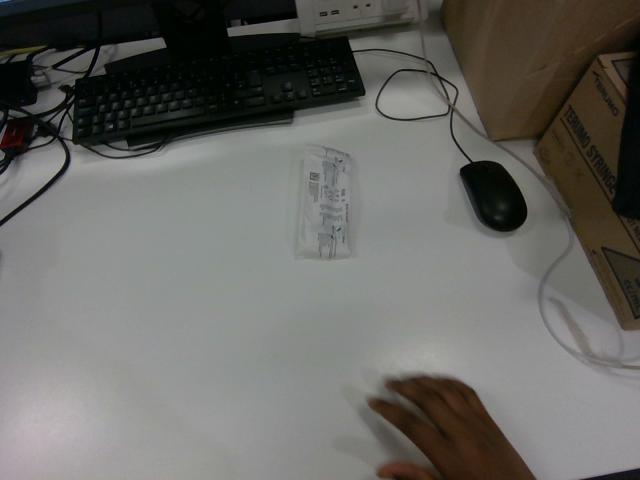syringe: (296, 145, 351, 258)
